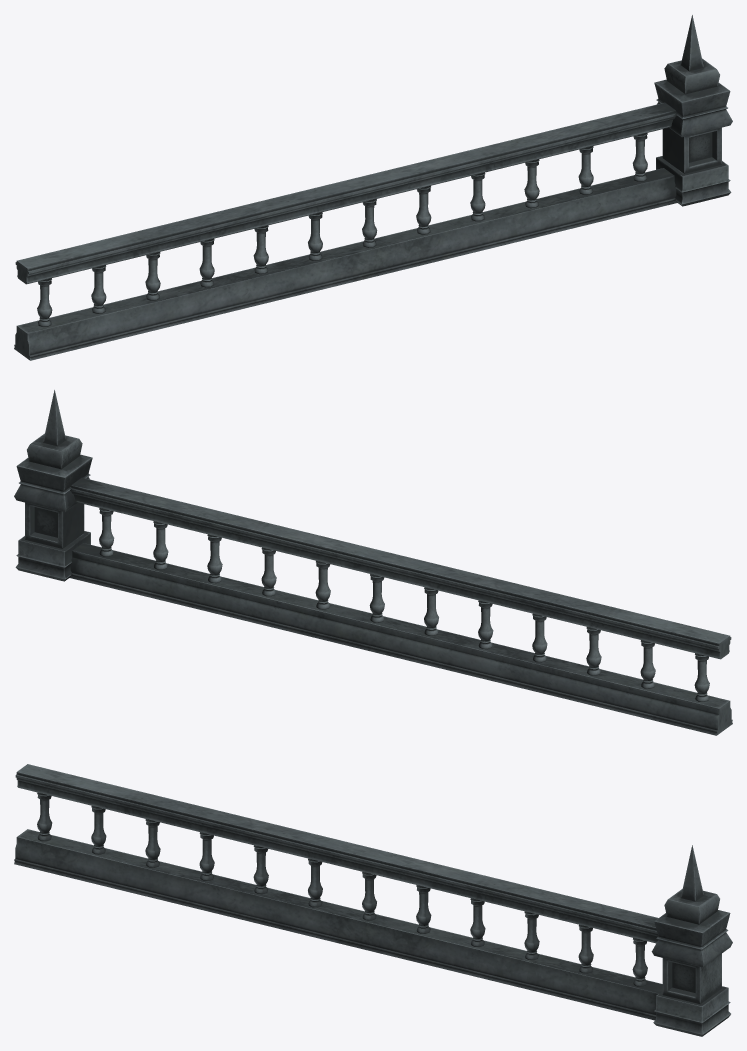
Rendered from SM_StoneHandRail_1.fbx.
3 renders of one model, top to bottom at view 1: azimuth 30°, elevation 25°; view 2: azimuth 150°, elevation 25°; view 3: azimuth 330°, elevation 25°, orthographic.
Visible parts, largest first — view 1: SM_StoneHandRail_1; view 2: SM_StoneHandRail_1; view 3: SM_StoneHandRail_1.
Boxes of the visible parts, x1,y1,x2,y2 form: SM_StoneHandRail_1: (14,15,732,360); SM_StoneHandRail_1: (14,390,732,735); SM_StoneHandRail_1: (14,764,732,1036).
Bounding box in the file's own units: 944 × 230 × 69.6.
